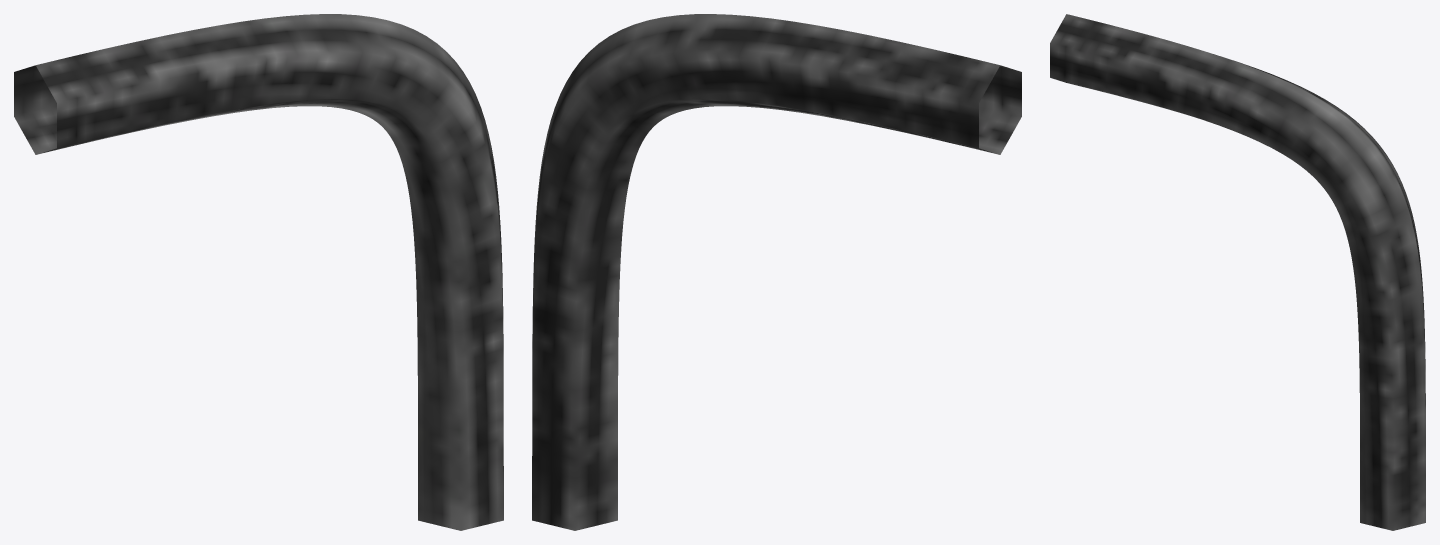
The model's file is bunker_pipes.ba77982f8e.glb.
The picture shows the model from 3 angles, left to right: view 1: azimuth 30°, elevation 25°; view 2: azimuth 150°, elevation 25°; view 3: azimuth 330°, elevation 25°; orthographic projection. The views are drawn at different scales.
Parts seen in each view (by area): view 1: bunker_pipes; view 2: bunker_pipes; view 3: bunker_pipes.
Boxes of the visible parts, box(x1,y1,x2,y2) form: bunker_pipes: box(14, 14, 503, 530); bunker_pipes: box(532, 14, 1021, 530); bunker_pipes: box(1050, 14, 1425, 530).
Size of the model in its own units: 1.7 by 1.9 by 0.2693.
Materials: 1 (1 with a texture image).
